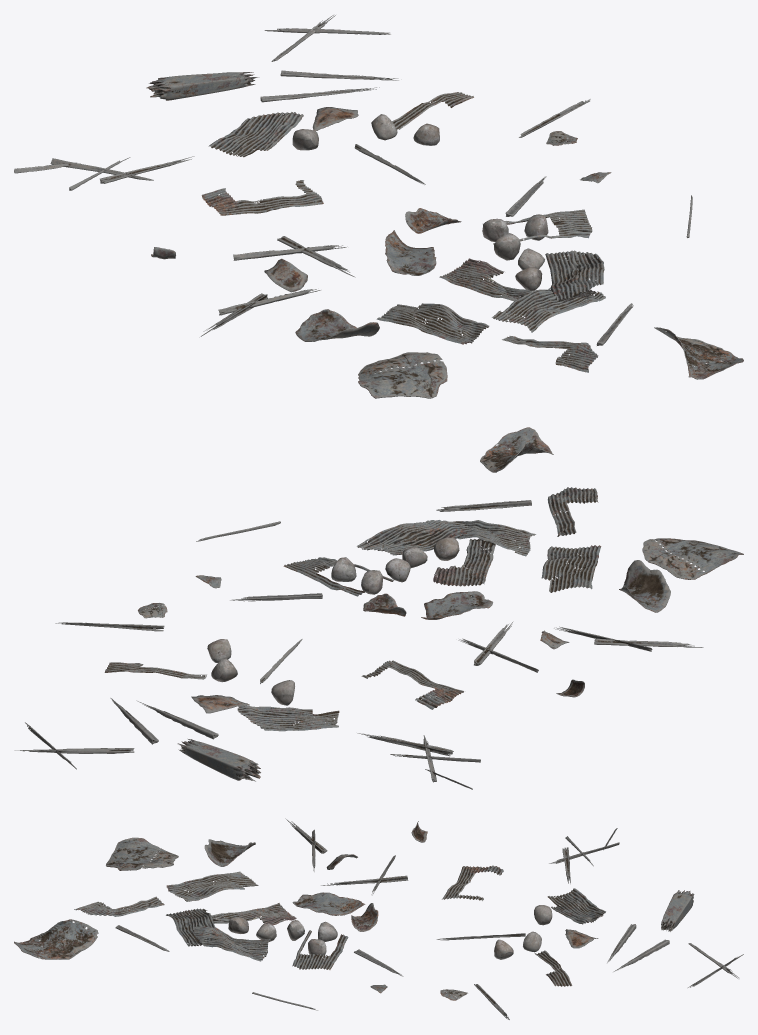
3 renders of one model, top to bottom at view 1: azimuth 30°, elevation 25°; view 2: azimuth 150°, elevation 25°; view 3: azimuth 270°, elevation 25°, orthographic. The views are drawn at different scales.
Parts seen in each view (by area): view 1: debris3_05 - Default_0 (×2); view 2: debris3_05 - Default_0 (×2); view 3: debris3_05 - Default_0 (×2).
Part boxes in pixels (x1=…): debris3_05 - Default_0 (×2): x1=14, y1=15, x2=743, y2=398; debris3_05 - Default_0 (×2): x1=14, y1=427, x2=743, y2=789; debris3_05 - Default_0 (×2): x1=14, y1=818, x2=743, y2=1019.
Size of the model in its own units: 8.24 by 0.4966 by 12.53.
Materials: 1 (1 with a texture image).
